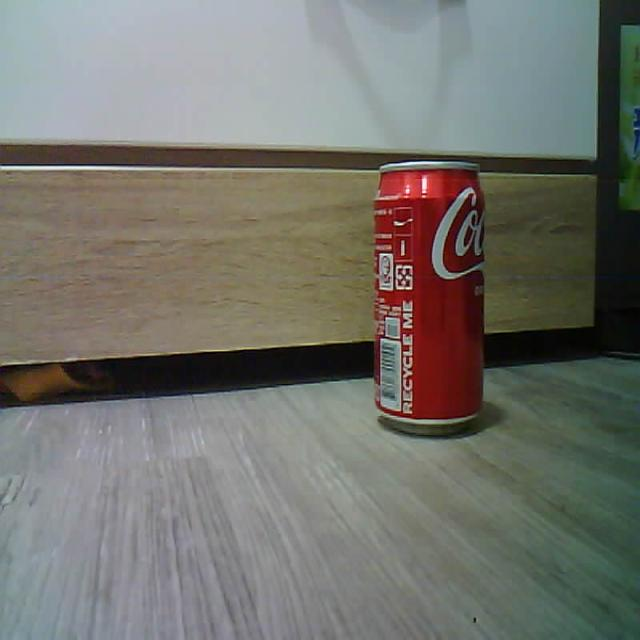can: (374, 160, 485, 433)
